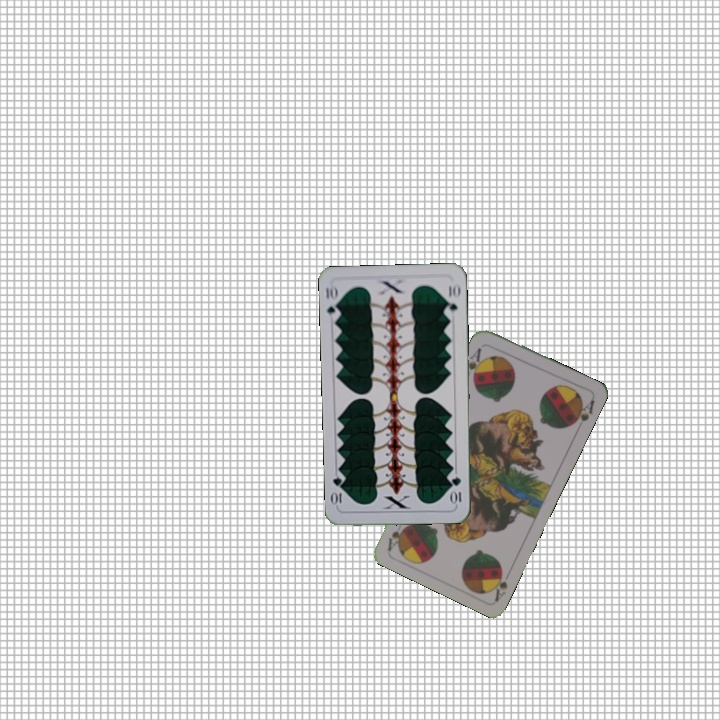G10: (322, 281, 342, 322), (448, 473, 464, 507)
SA: (464, 344, 487, 382), (487, 565, 510, 603)
